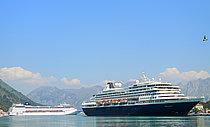Ship: (81, 72, 208, 121), (9, 99, 83, 118)
